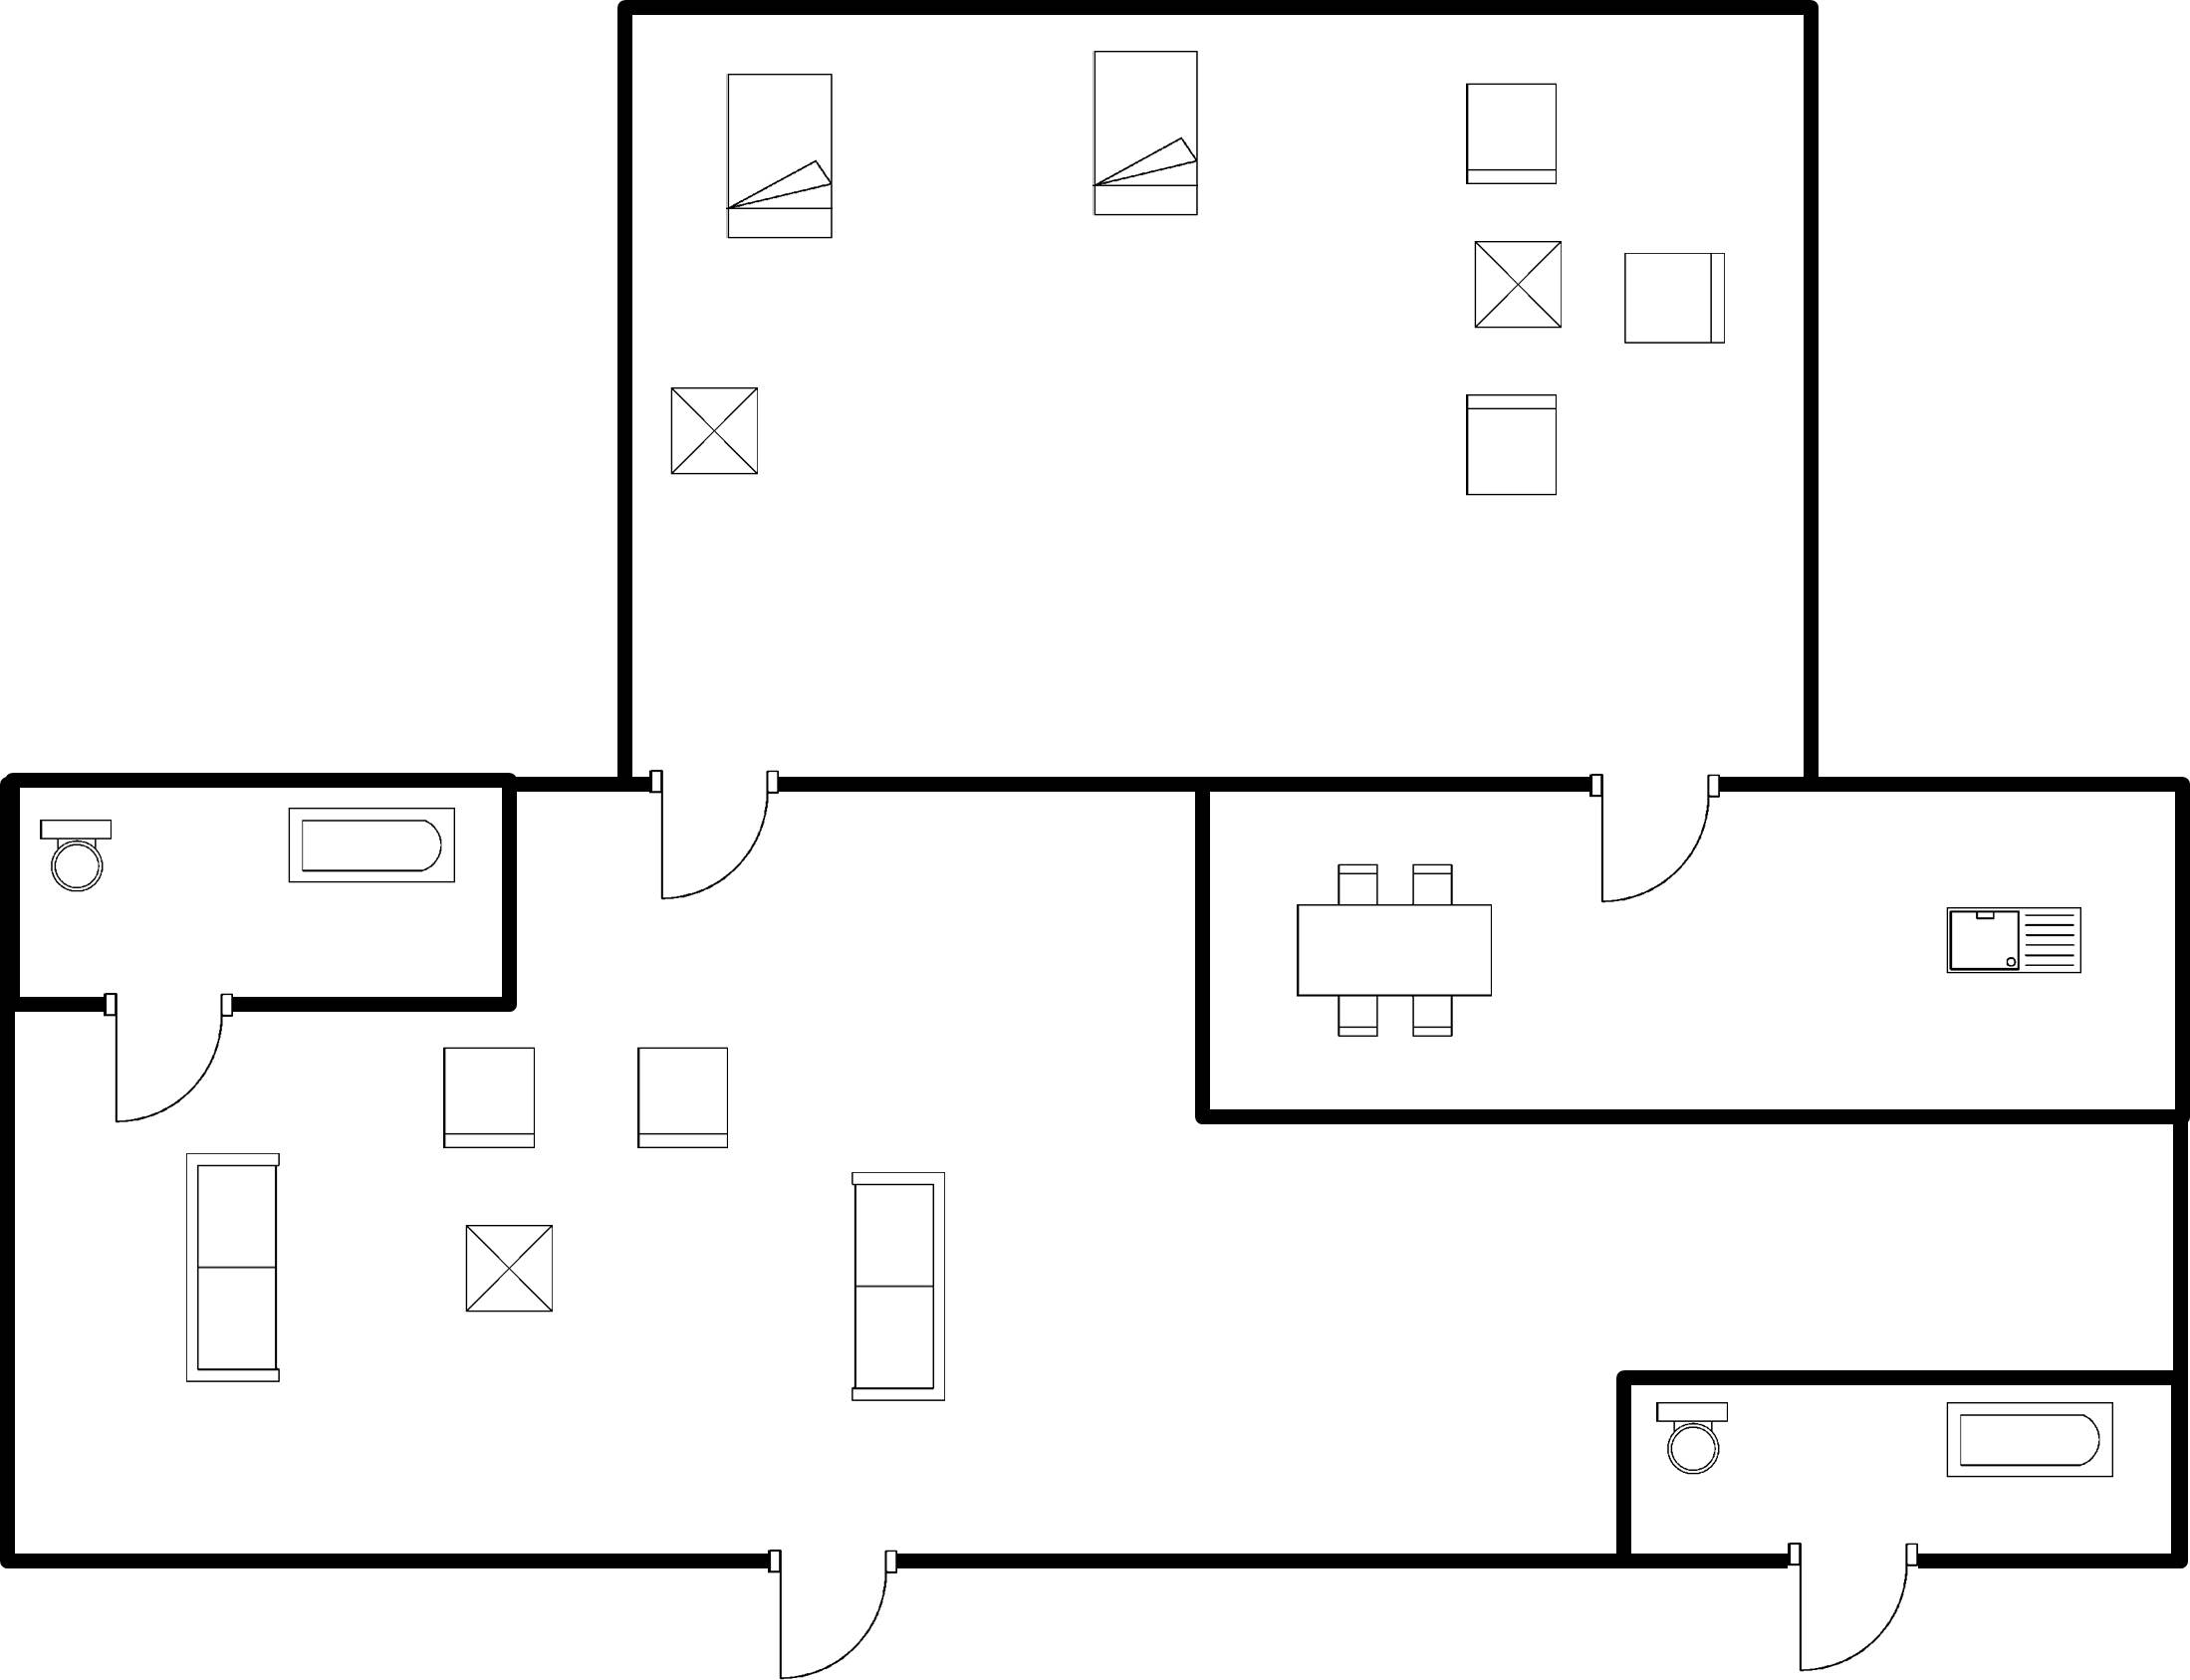bed: (718, 59, 849, 258), (1080, 40, 1215, 230)
coffee_table: (455, 1217, 569, 1324), (663, 377, 771, 488), (1466, 229, 1573, 340)
dining_table: (1279, 850, 1502, 1049)
large_sink: (30, 807, 130, 906), (1641, 1393, 1736, 1484)
large_sofa: (841, 1162, 962, 1421), (171, 1143, 289, 1391)
sink: (1936, 893, 2099, 990)
small_sofa: (429, 1036, 547, 1172), (623, 1037, 746, 1162), (1453, 72, 1574, 196), (1453, 384, 1571, 503), (1614, 244, 1736, 358)
tub: (1935, 1394, 2125, 1496), (278, 801, 467, 896)
